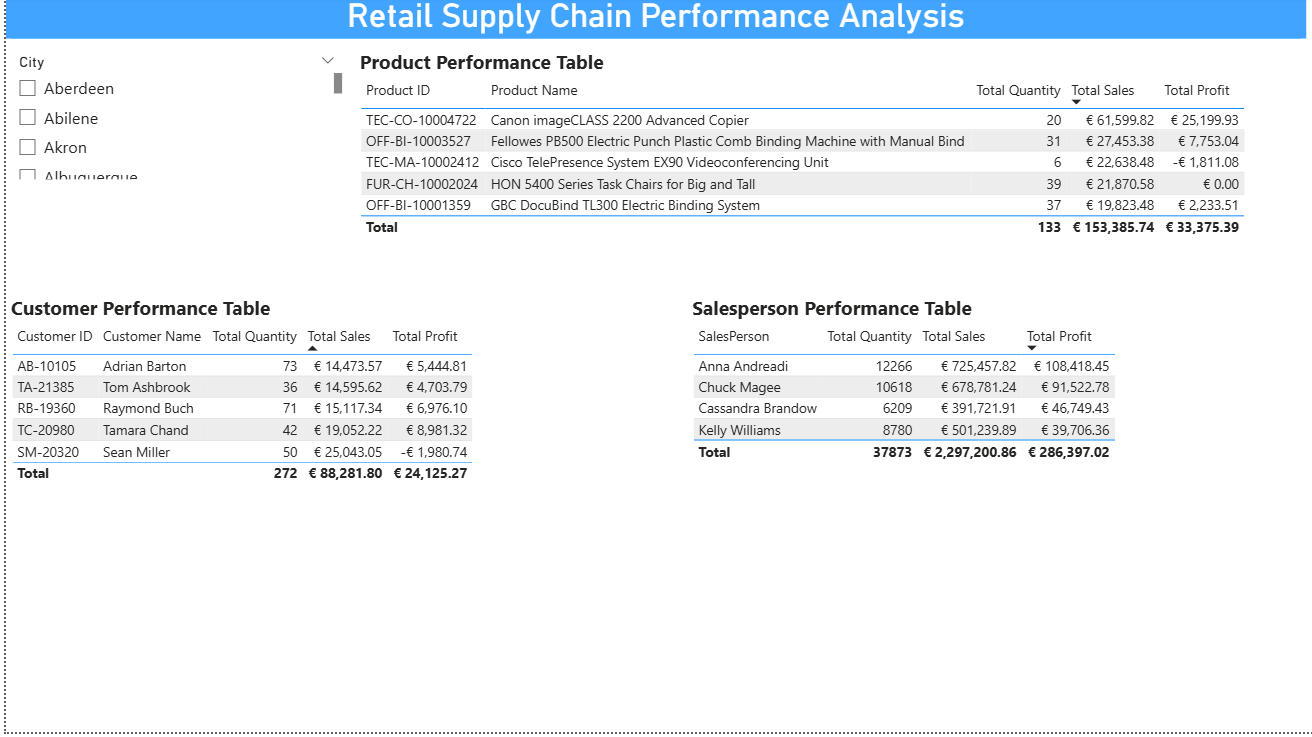

The page's visual inventory and layout, read from the dashboard file:
{"tool":"powerbi","page":{"name":"Performance Analysis","canvas":[1280,720],"ordinal":1},"visuals":[{"type":"tableEx","title":"Customer Performance Table","fields":{"Values":["Retails Order Full Dataset.Customer ID","Retails Order Full Dataset.Customer Name","Retails Order Full Dataset.Total Quantity","Retails Order Full Dataset.Total Sales","Retails Order Full Dataset.Total Profit"]},"box":[0,292.3,462.2,209.1],"z":0},{"type":"tableEx","title":"Salesperson Performance   Table","fields":{"Values":["Retails Order Full Dataset.SalesPerson","Retails Order Full Dataset.Total Quantity","Retails Order Full Dataset.Total Sales","Retails Order Full Dataset.Total Profit"]},"box":[666.9,292.3,435,170.2],"z":1000},{"type":"tableEx","title":"Product Performance Table","fields":{"Values":["Retails Order Full Dataset.Product ID","Retails Order Full Dataset.Product Name","Retails Order Full Dataset.Total Quantity","Retails Order Full Dataset.Total Sales","Retails Order Full Dataset.Total Profit"]},"box":[341.2,51.4,915.9,189.5],"z":2000},{"type":"slicer","fields":{"Values":["Retails Order Full Dataset.City"]},"box":[0,51.4,333.8,133.3],"z":3000},{"type":"textbox","title":"Retail Supply Chain Performance Analysis","box":[0,0,1271.7,42.8],"z":4000}]}

Visuals, with their boxes in screenshot pixels (x1, y1, x2, y2), scaled from the page's 1280x720 canvas onto the 1312x737 screenshot:
"Customer Performance Table" tableEx: 0/299/474/513
"Salesperson Performance   Table" tableEx: 684/299/1129/473
"Product Performance Table" tableEx: 350/53/1289/247
slicer - Retails Order Full Dataset.City: 0/53/342/189
"Retail Supply Chain Performance Analysis" textbox: 0/0/1303/44
